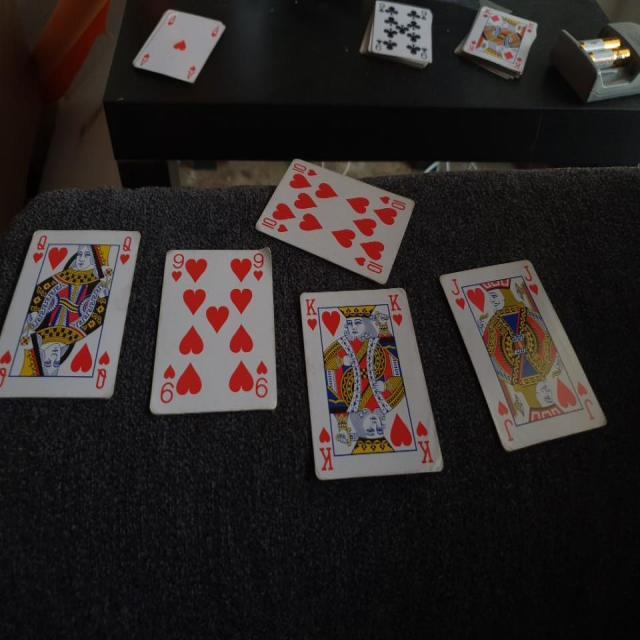10 of hearts: (250, 153, 424, 284)
9 of clubs: (366, 0, 438, 71)
9 of hearts: (156, 244, 282, 426)
ace of hearts: (130, 4, 230, 87)
jack of hearts: (432, 240, 612, 454)
king of diamonds: (461, 5, 541, 79)
king of hearts: (296, 290, 450, 482)
queen of hearts: (1, 214, 142, 409)
